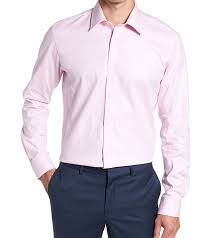F_dress pants: (45, 160, 162, 236)
F_shirt: (15, 3, 191, 213)
